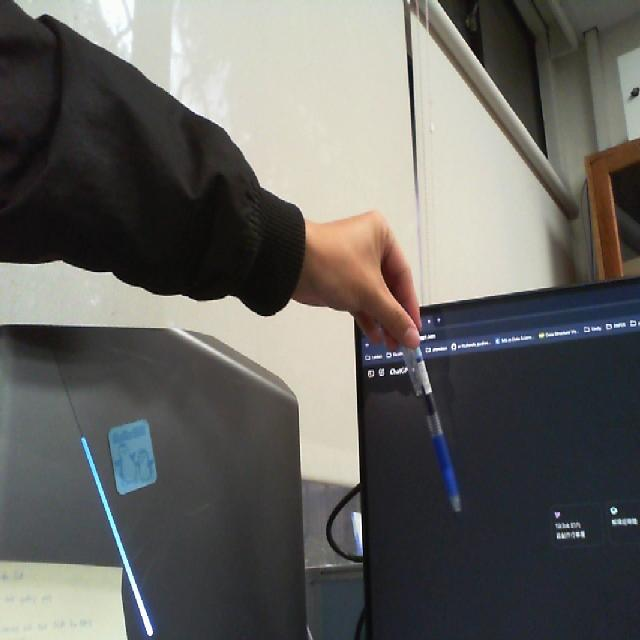Pen: (388, 276, 473, 532), (402, 282, 471, 527), (402, 271, 402, 288)
